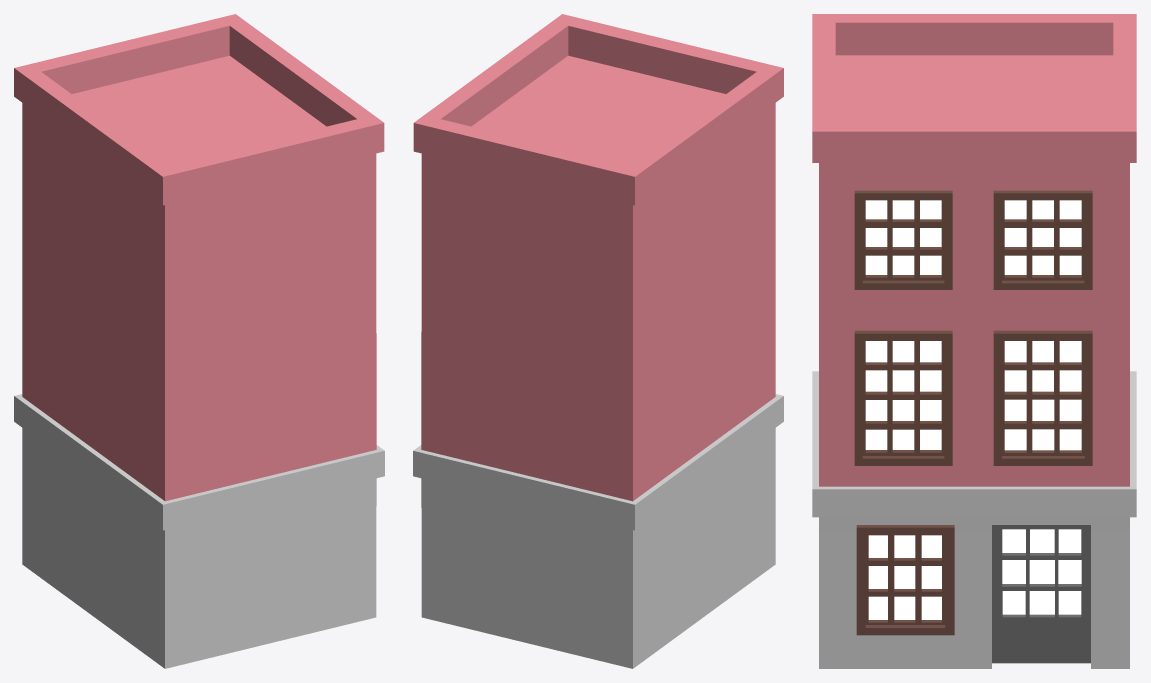
File: House 4.5.fbx
3 renders of one model, left to right at view 1: azimuth 30°, elevation 25°; view 2: azimuth 150°, elevation 25°; view 3: azimuth 270°, elevation 25°, orthographic. The views are drawn at different scales.
Parts seen in each view (by area): view 1: House 4.006; view 2: House 4.006; view 3: House 4.006.
Boxes of the visible parts, x1,y1,x2,y2 form: House 4.006: [14, 14, 384, 668]; House 4.006: [413, 14, 783, 668]; House 4.006: [812, 14, 1136, 668].
Size of the model in its own units: 857 by 1829 by 995.
